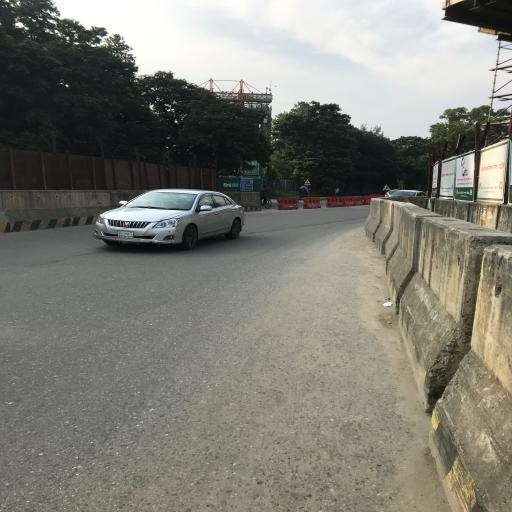bicycle: (260, 196, 274, 211)
car: (92, 188, 247, 251)
rickshaw: (299, 188, 313, 203)
